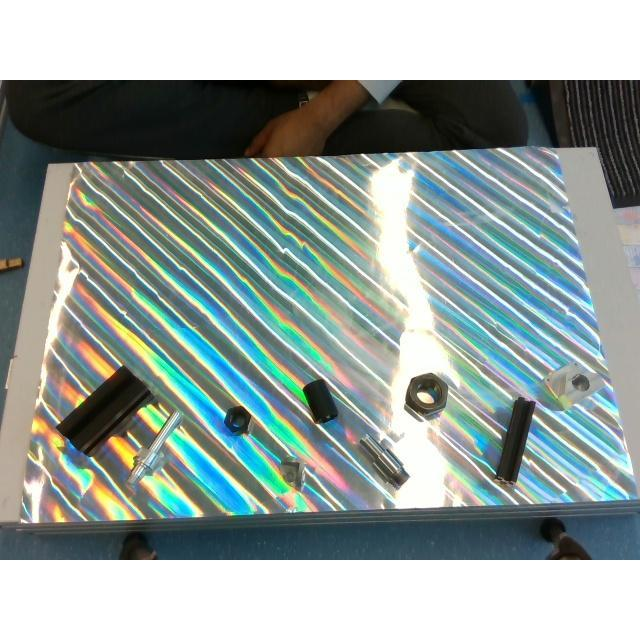Axis2: (359, 434, 409, 490)
F20_20_B: (496, 396, 536, 484)
M20: (225, 405, 251, 435)
M30: (405, 373, 447, 419)
S40_40_B: (56, 366, 156, 454)
